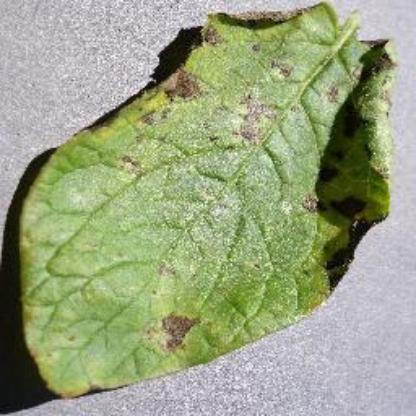Early-Blight: (14, 6, 390, 396)
